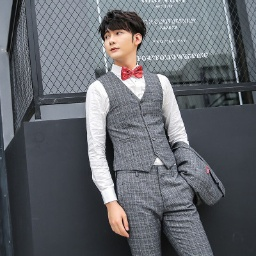face: (98, 9, 147, 60)
